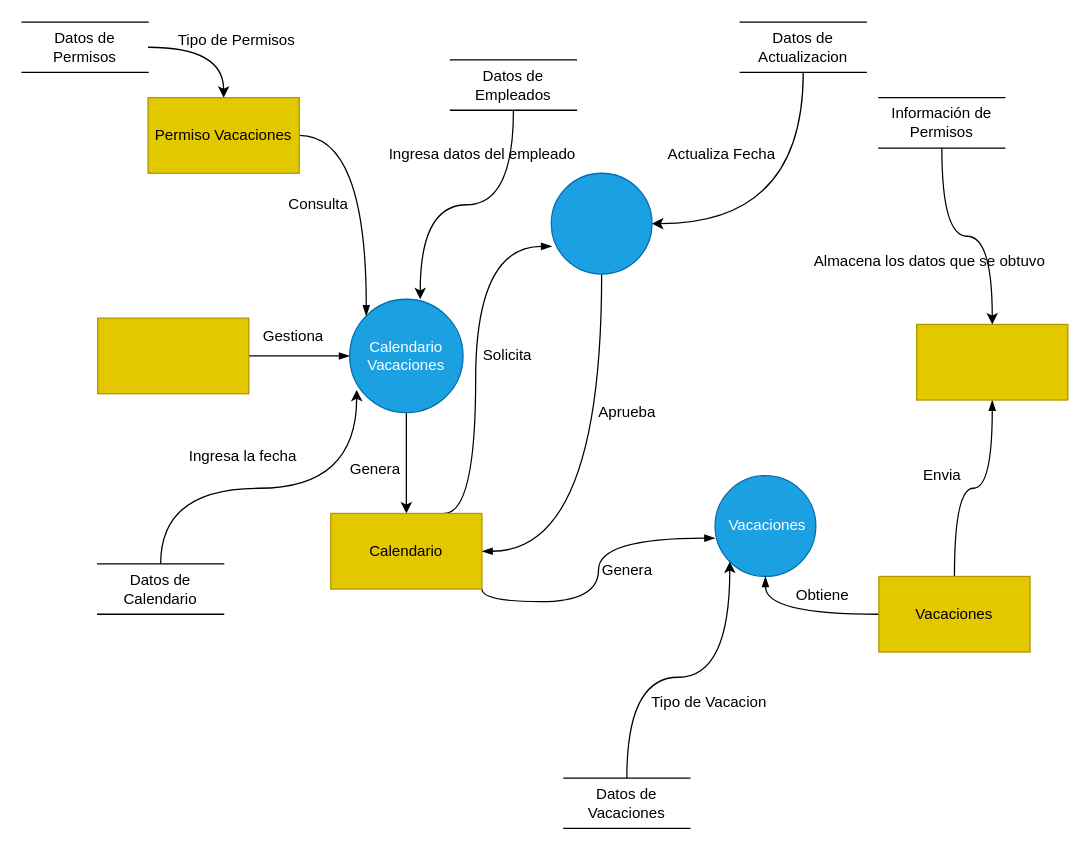
The diagram is 1090 pixels wide and 851 high, and some of its shapes have lost their labels. The centre of each missing label's shape, as x and y in pixels:
"Cambio Fecha" belongs at pixel 601 223.
"Empleado" belongs at pixel 172 355.
"Informes" belongs at pixel 991 361.
